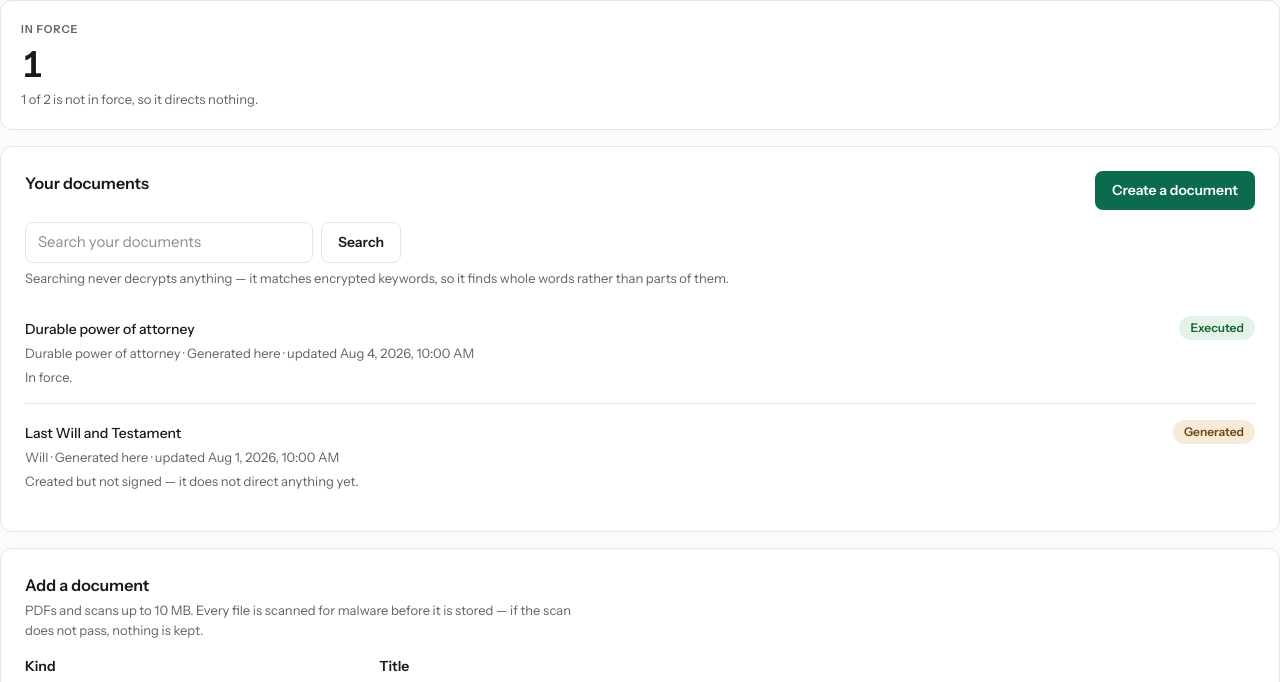
encrypted search › restores the full list when the search is cleared
The width and height of the screenshot is (1280, 682).
Expected: the link "Last Will and Testament" is shown, [25,424,181,442]
Type "power" into the field labelled "Search your documents" at (169, 242), box [25,222,313,262]
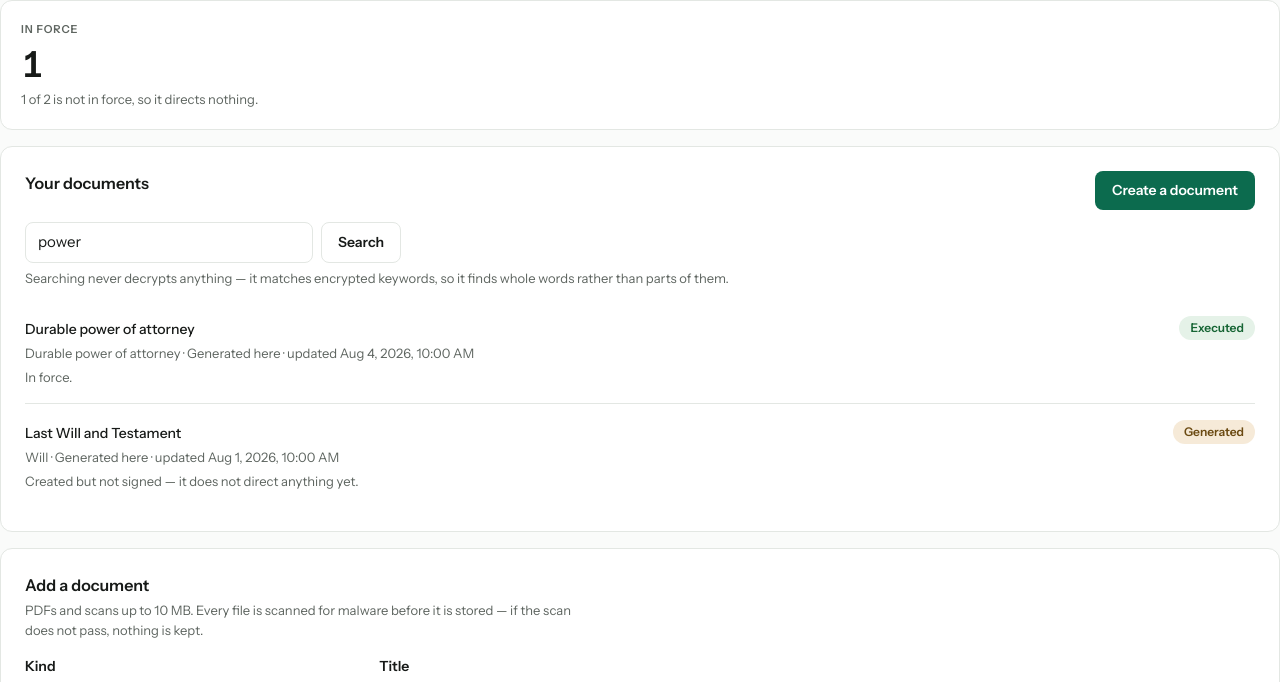
Click the button "Search" at (361, 242), box [321,222,401,262]
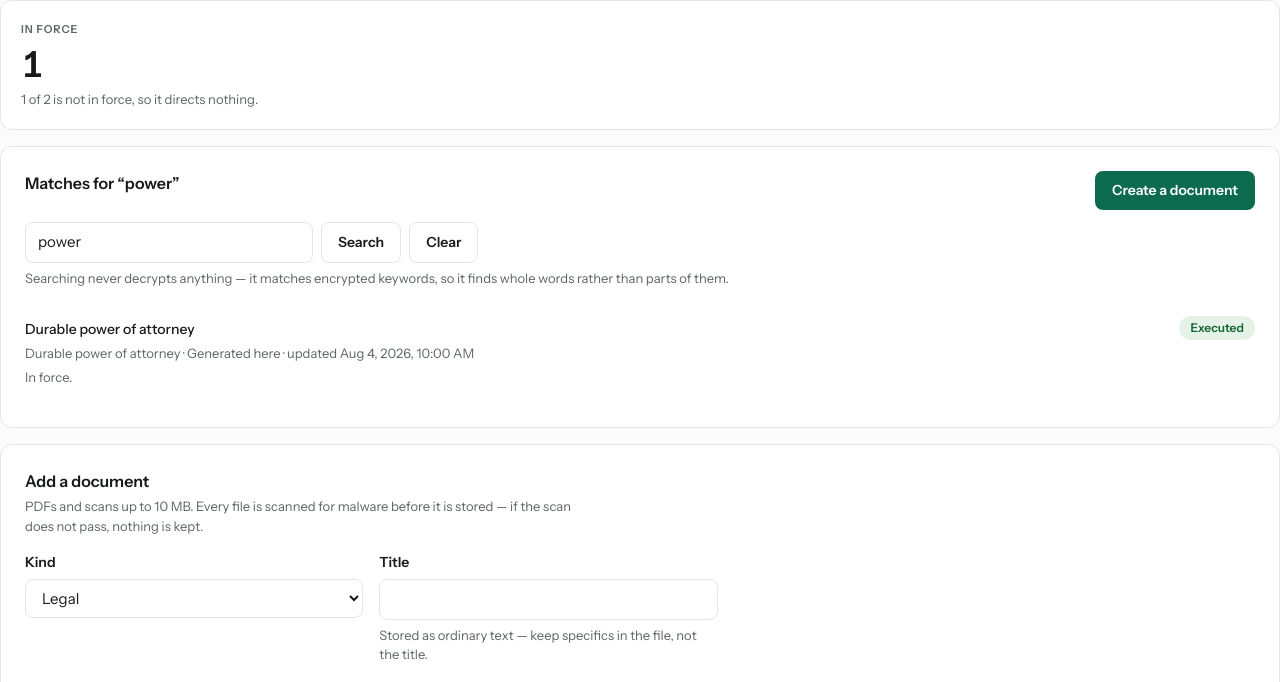
Now the button "Clear" is shown
Click the button "Clear" at (444, 242), box [409,222,478,262]
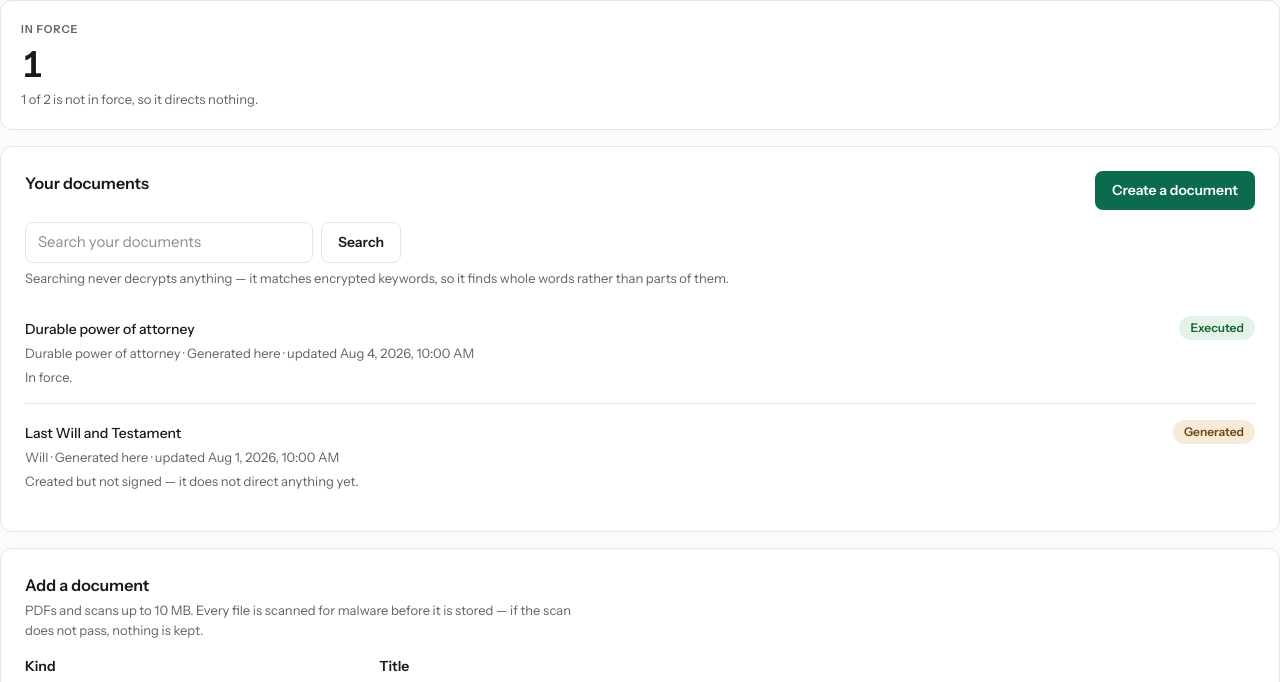
Now the link "Last Will and Testament" is shown, box [25,424,181,442]
